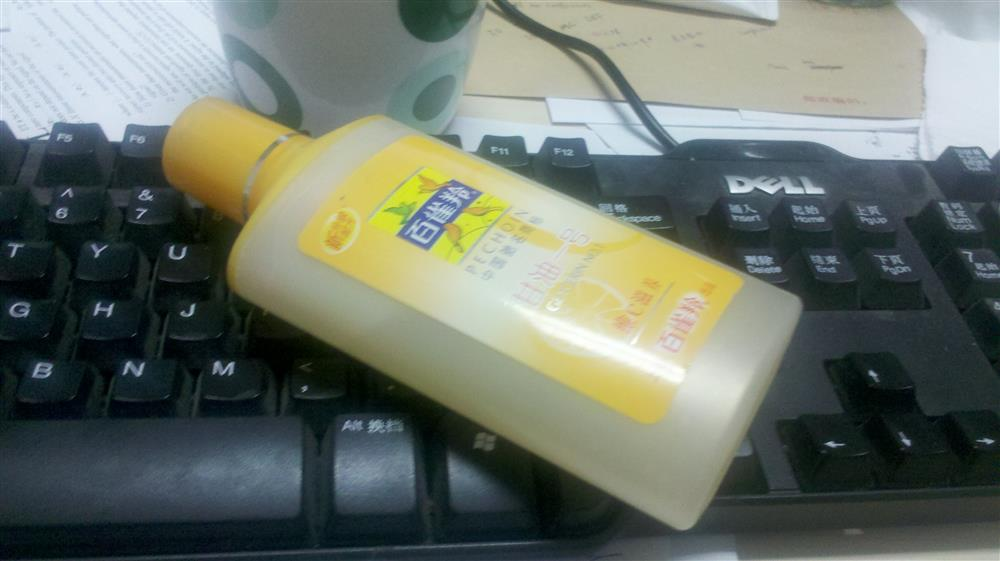pechoin: (160, 95, 802, 530)
